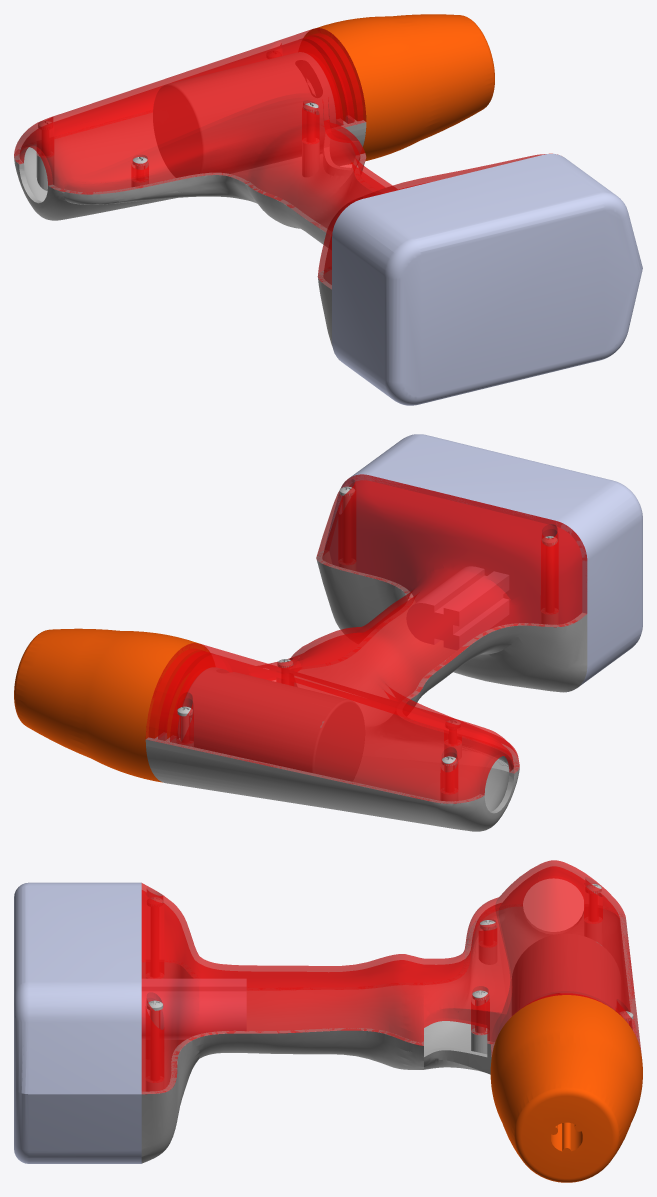
The model's file is 16823_Cordless_Drill.dae.
3 renders of one model, top to bottom at view 1: azimuth 30°, elevation 25°; view 2: azimuth 150°, elevation 25°; view 3: azimuth 270°, elevation 25°, orthographic. The views are drawn at different scales.
Visible parts, largest first — view 1: S_obj10, S_obj0, S_obj1, S_obj7, S_obj8; view 2: S_obj0, S_obj10, S_obj1, S_obj7, S_obj8; view 3: S_obj0, S_obj10, S_obj1, S_obj7, S_obj8.
Boxes of the visible parts, bbox=[...] form: S_obj10: bbox=[332, 153, 642, 405]; S_obj0: bbox=[14, 28, 557, 289]; S_obj1: bbox=[14, 112, 375, 360]; S_obj7: bbox=[304, 14, 494, 162]; S_obj8: bbox=[153, 52, 335, 177]; S_obj0: bbox=[145, 474, 587, 803]; S_obj10: bbox=[324, 434, 642, 692]; S_obj1: bbox=[145, 550, 587, 831]; S_obj7: bbox=[14, 628, 209, 782]; S_obj8: bbox=[178, 667, 364, 781]; S_obj0: bbox=[141, 860, 641, 1094]; S_obj10: bbox=[14, 882, 246, 1163]; S_obj1: bbox=[141, 904, 640, 1163]; S_obj7: bbox=[490, 995, 642, 1182]; S_obj8: bbox=[512, 934, 620, 1015].
Bounding box in the file's own units: 0.1862 × 0.0665 × 0.2121.
